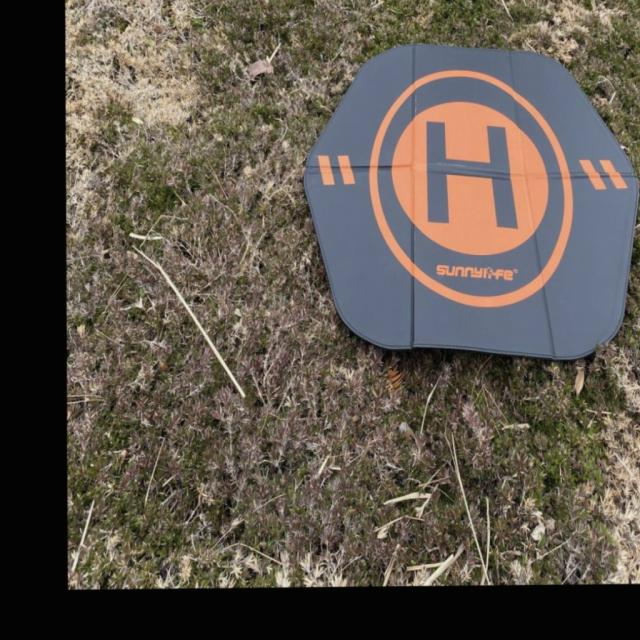helipad: (364, 60, 579, 312)
